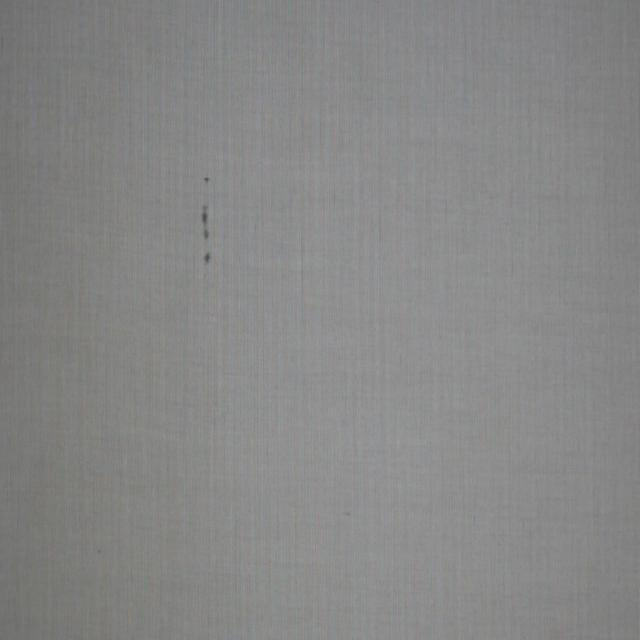dirty: (201, 174, 213, 265)
